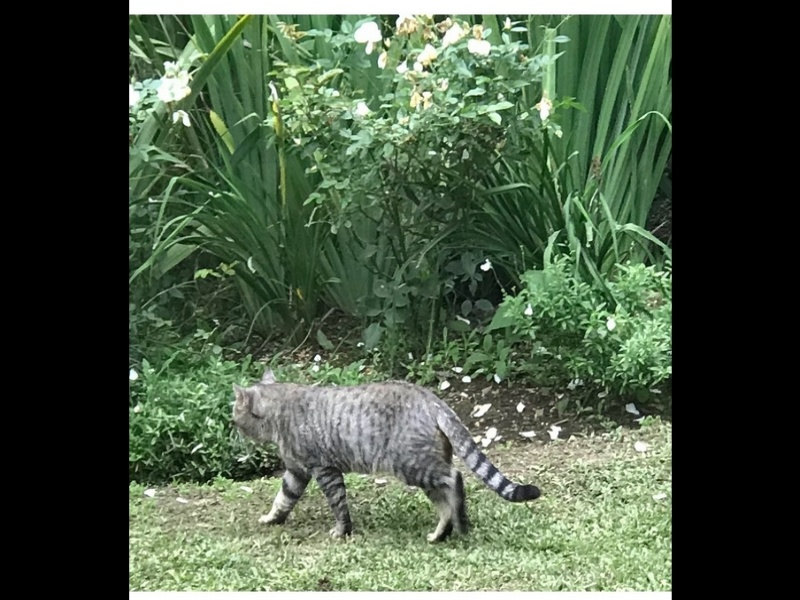cat: (227, 372, 545, 544)
